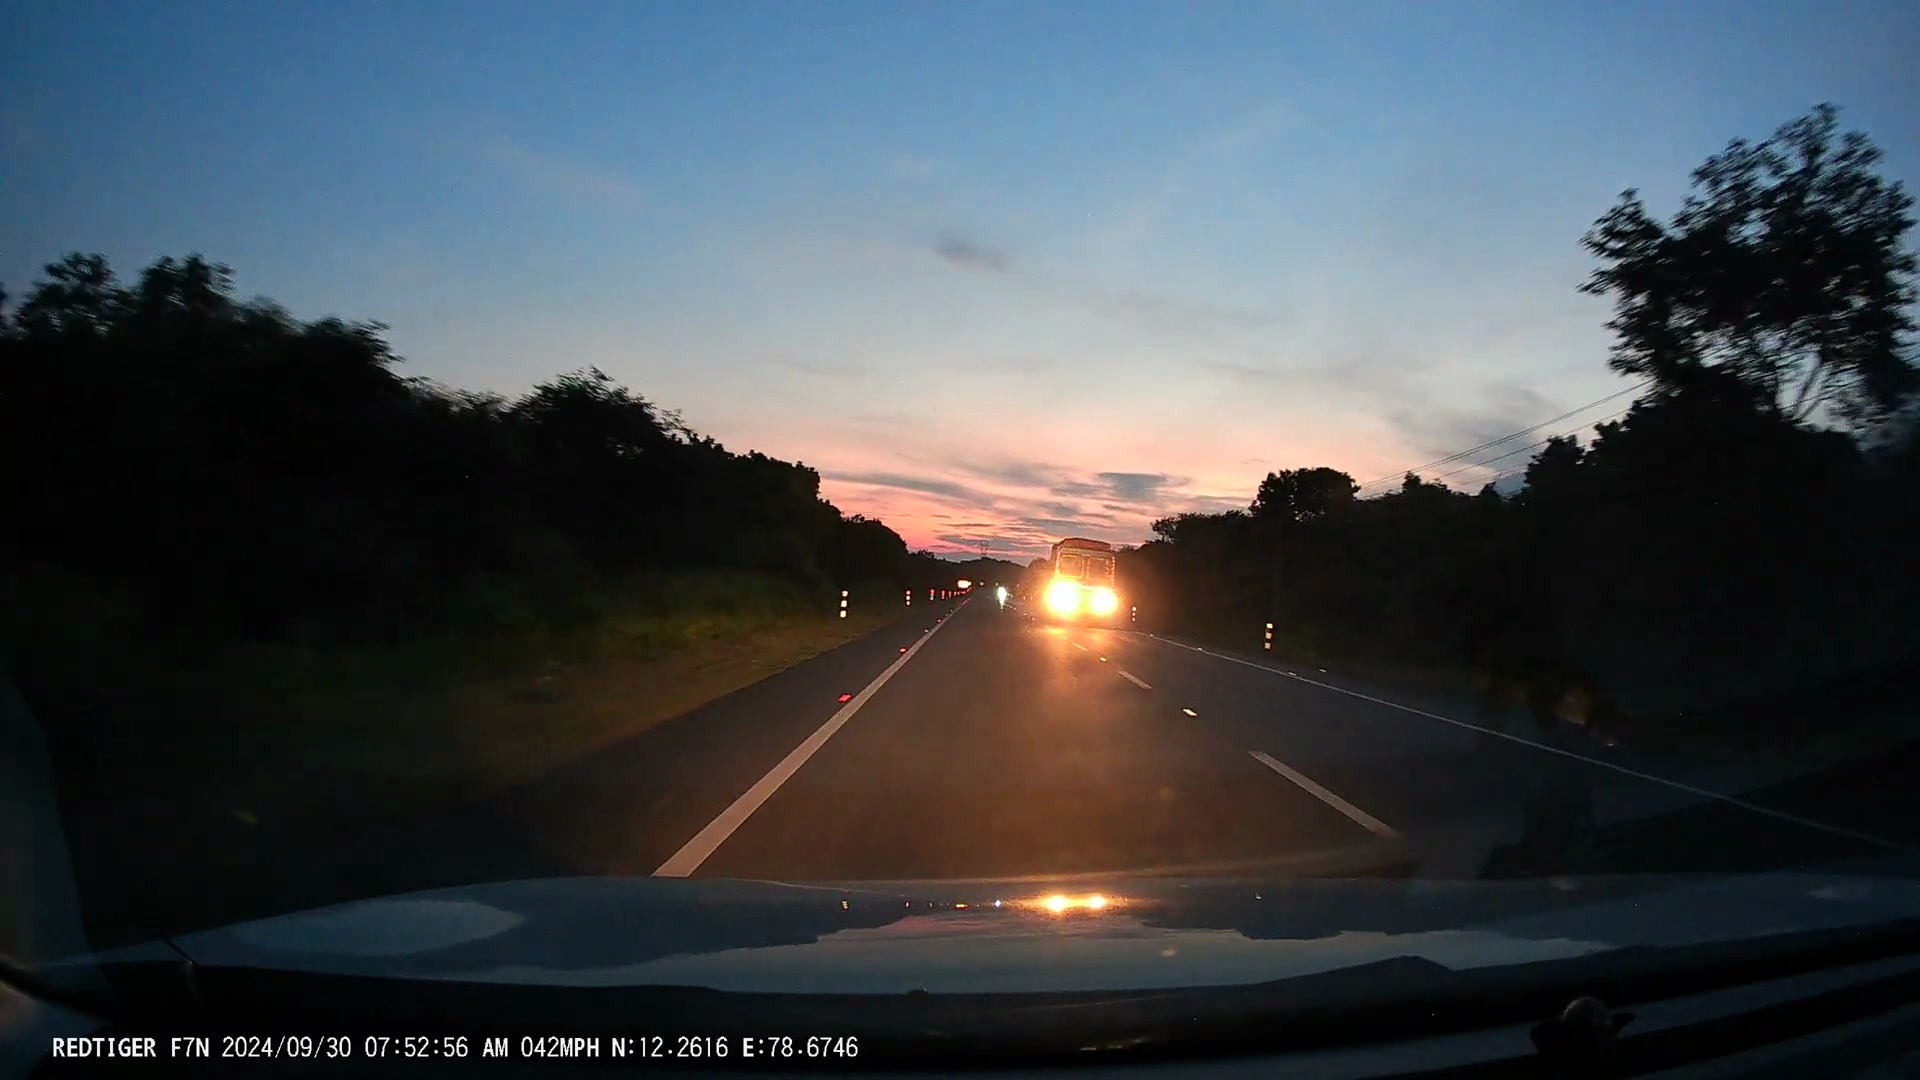four wheeler: (1033, 541, 1126, 625)
headlight: (1040, 578, 1083, 618), (1092, 582, 1120, 618), (996, 587, 1007, 603)
two wheeler: (992, 574, 1015, 613)
